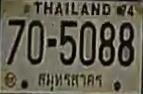0: (26, 19, 44, 64), (79, 20, 95, 65)
5: (59, 20, 77, 64)
7: (7, 18, 25, 64)
8: (98, 21, 114, 65), (117, 21, 133, 65)
SKN: (35, 69, 106, 93)
